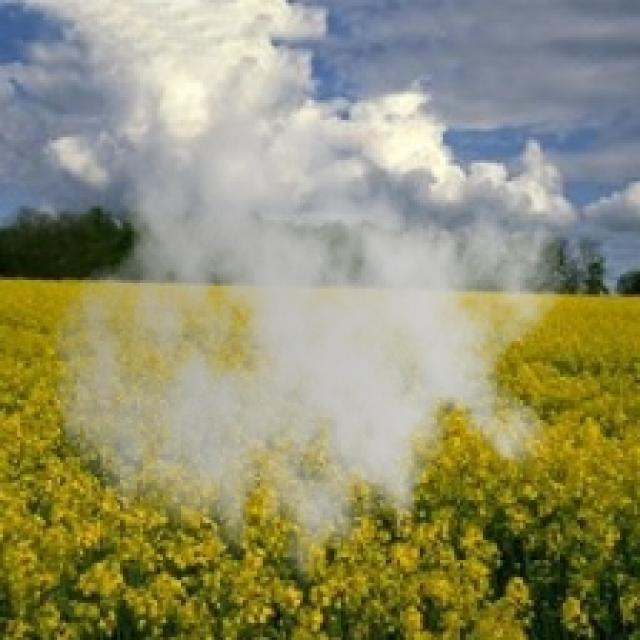smoke: (51, 77, 568, 606)
